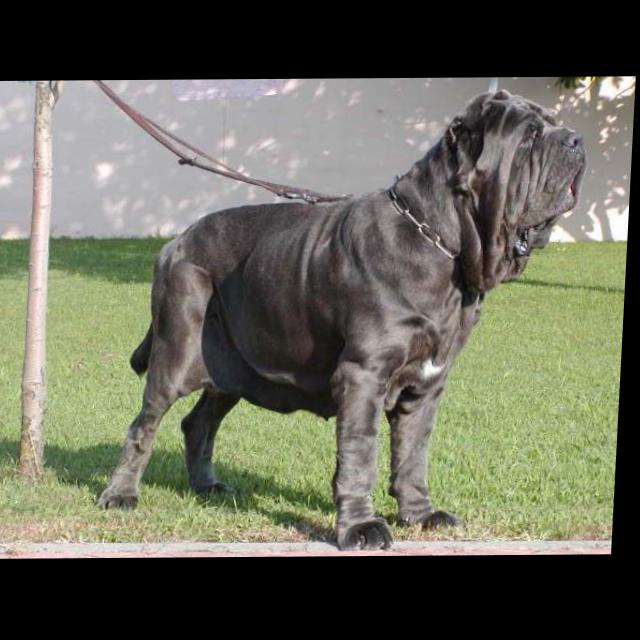mastino_napoletano: (99, 89, 593, 555)
